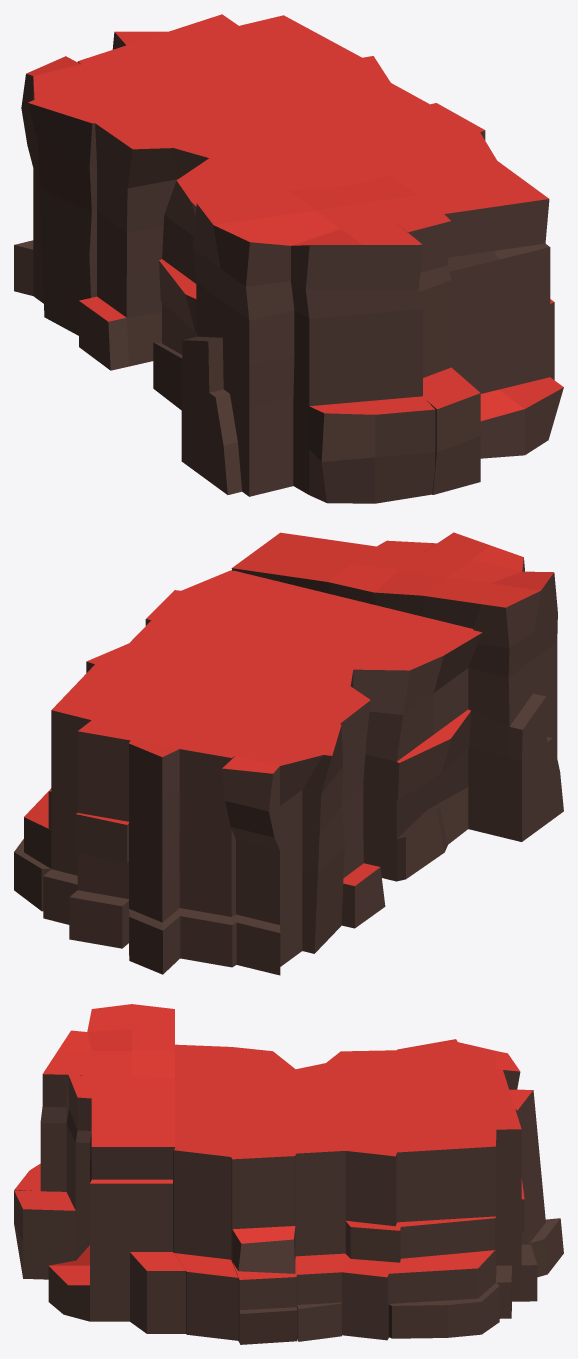
Rendered from Falaise_03.fbx.
3 renders of one model, top to bottom at view 1: azimuth 30°, elevation 25°; view 2: azimuth 150°, elevation 25°; view 3: azimuth 270°, elevation 25°, orthographic. The views are drawn at different scales.
Parts seen in each view (by area): view 1: Cube; view 2: Cube; view 3: Cube.
Boxes of the visible parts, bbox=[...] form: Cube: bbox=[14, 14, 563, 503]; Cube: bbox=[14, 532, 563, 975]; Cube: bbox=[14, 1004, 563, 1344].
Bounding box in the file's own units: 1757 × 1105 × 2749.
